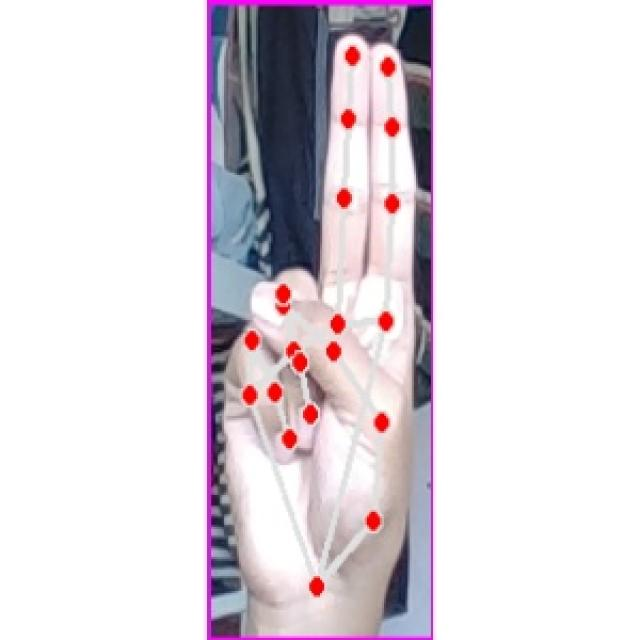U: (222, 31, 421, 604)
